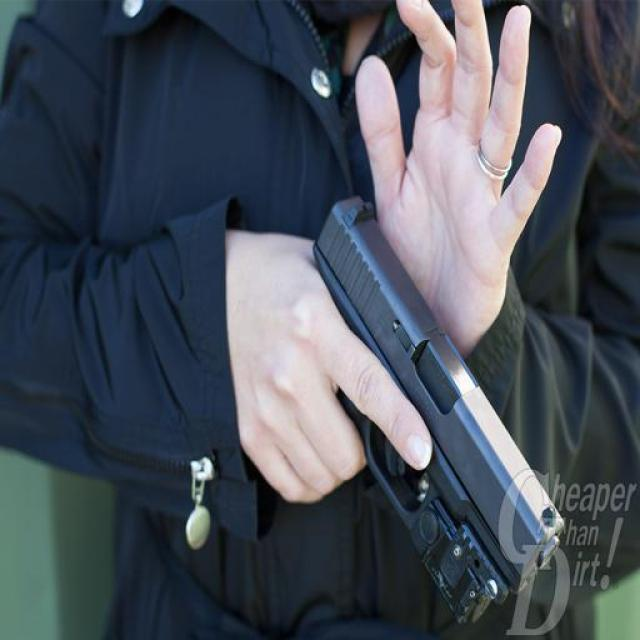pistol: (281, 191, 562, 625)
